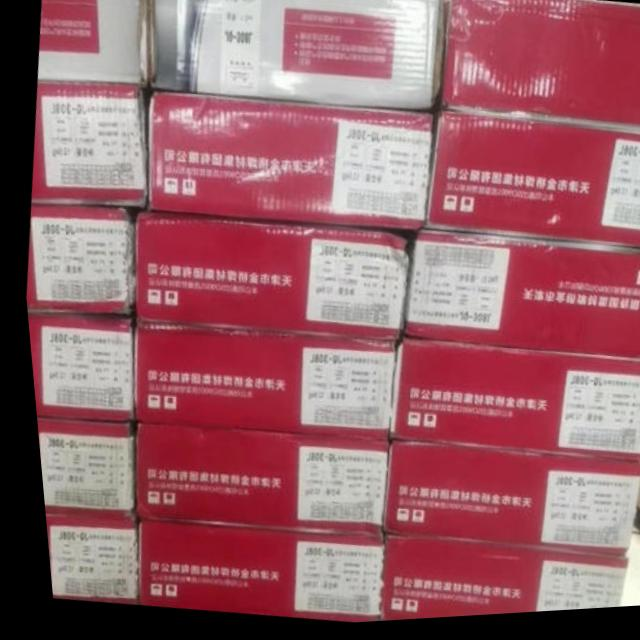box: (144, 93, 432, 239), (128, 213, 404, 347), (126, 321, 388, 445), (380, 346, 640, 470), (398, 235, 640, 366), (420, 118, 640, 255), (185, 0, 445, 115), (376, 447, 631, 564), (124, 425, 380, 537), (437, 0, 640, 138), (127, 522, 374, 626), (367, 537, 618, 625), (28, 82, 145, 212), (21, 203, 130, 318), (22, 314, 129, 423), (36, 0, 156, 87), (29, 416, 128, 521), (36, 513, 129, 606)
